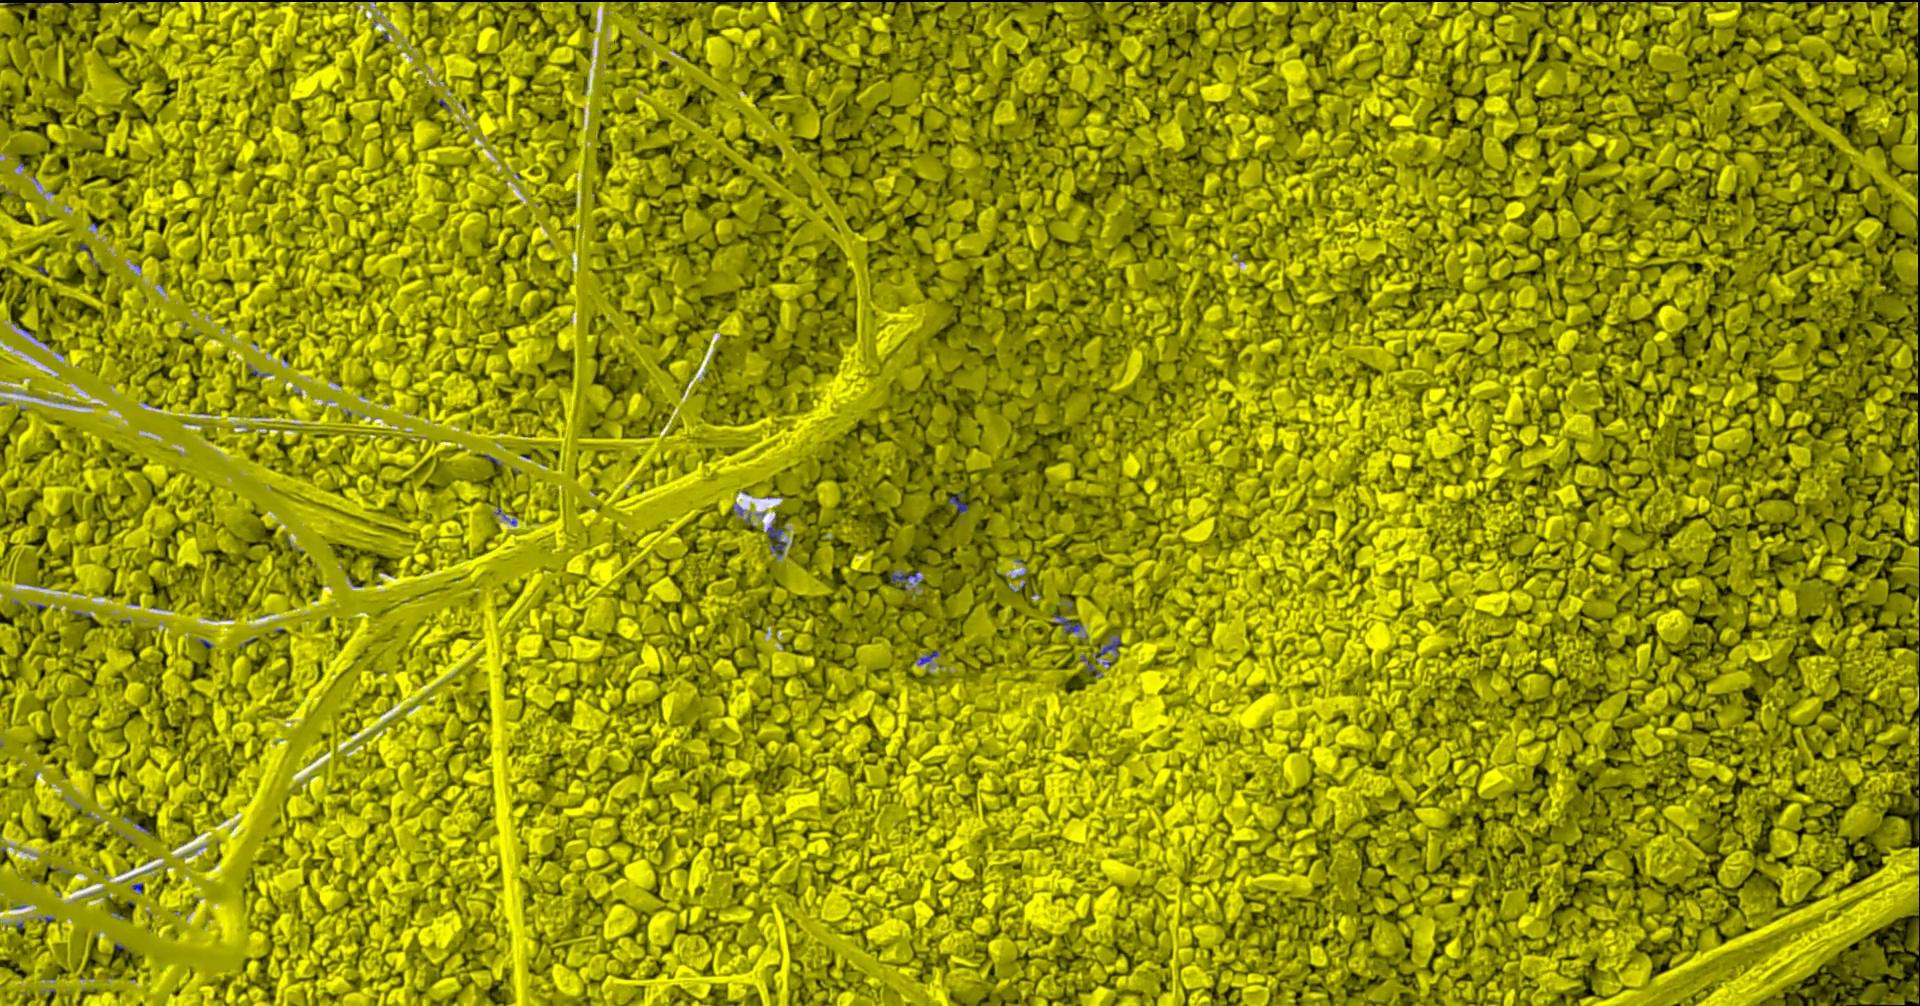ant: (768, 525, 789, 556), (1055, 614, 1083, 633), (1097, 638, 1123, 657), (949, 492, 969, 512), (891, 572, 919, 586), (919, 650, 938, 664)
